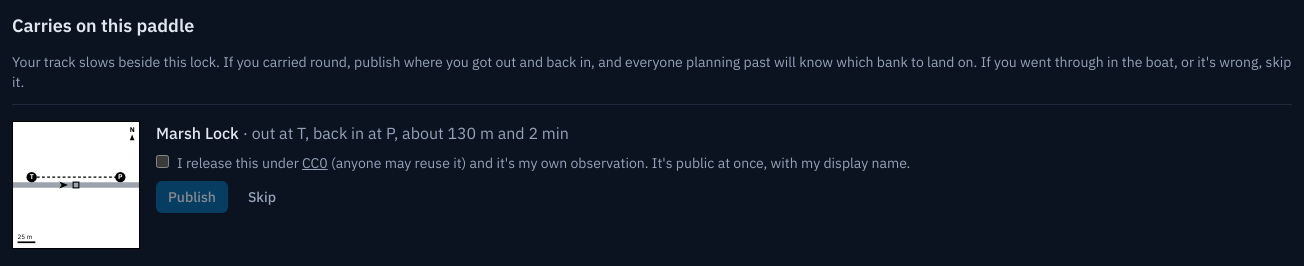
Test: carries on this paddle › draws the suggestion and publishes only once you release it under CC0
Expected: the picture with test id "portage-drawing" is shown, [12,121,140,249]
Expected: the button "Publish" is disabled, [156,181,228,213]
Click the checkbox named "Release under CC0" at x=162, y=162, box [156,155,169,168]
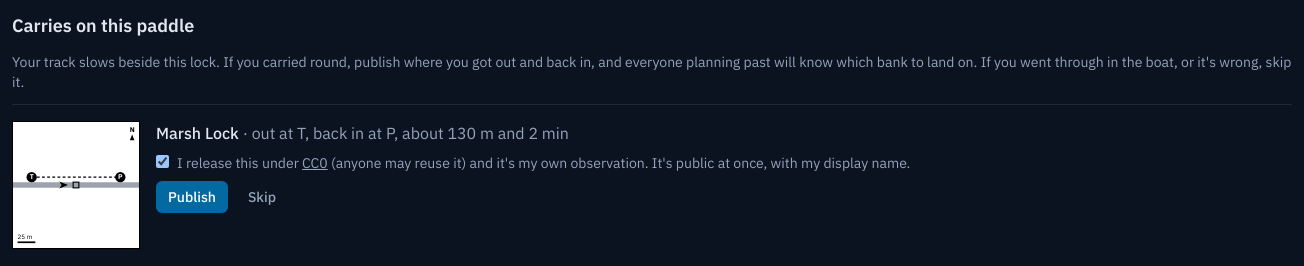
Click the button "Publish" at x=192, y=197, box [156,181,228,213]
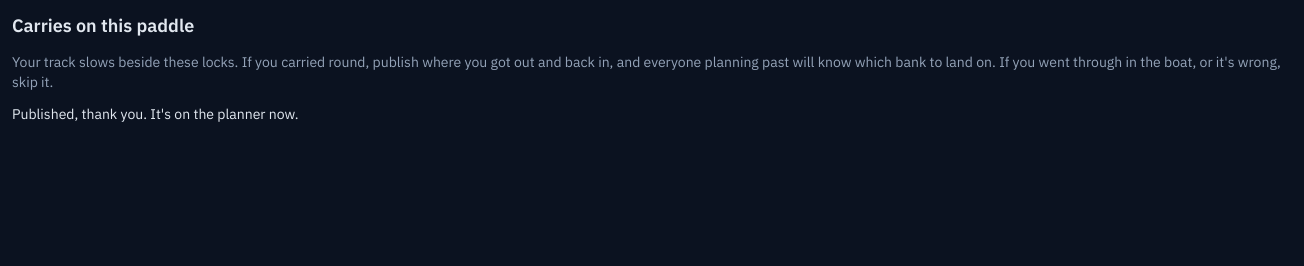
Expected: the text "Published, thank you" is shown, [12,105,299,123]
